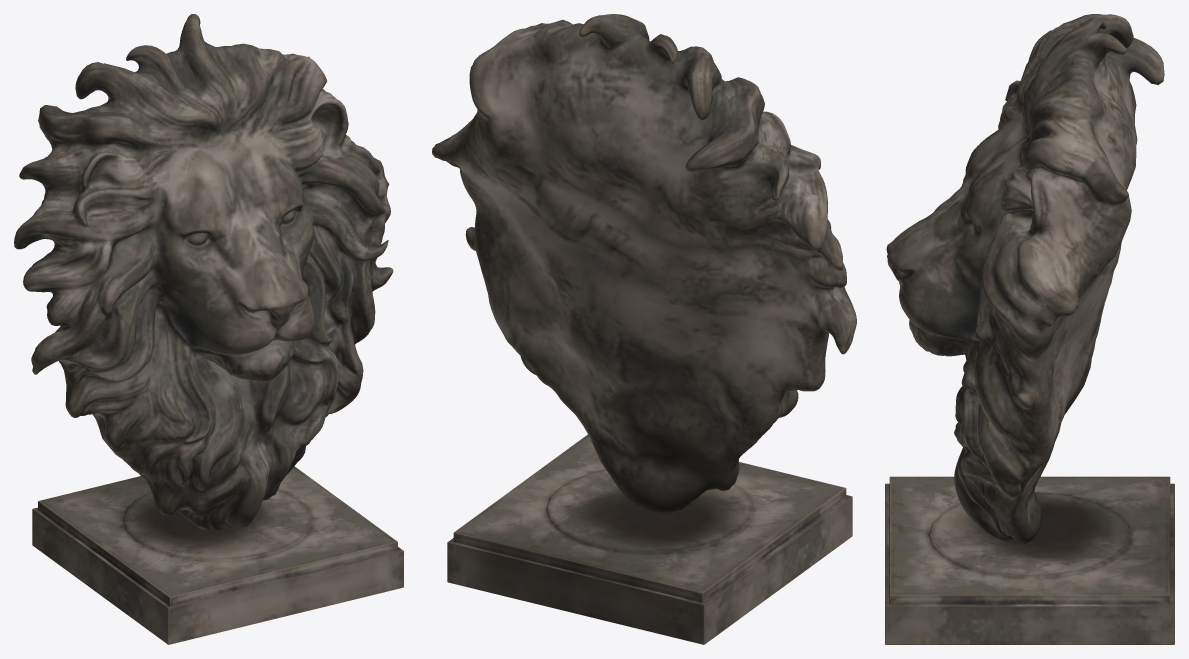
The model's file is lion_head.glb.
The picture shows the model from 3 angles, left to right: view 1: azimuth 30°, elevation 25°; view 2: azimuth 150°, elevation 25°; view 3: azimuth 270°, elevation 25°; orthographic projection. The views are drawn at different scales.
Parts seen in each view (by area): view 1: lion_head; view 2: lion_head; view 3: lion_head.
Part boxes in pixels (box(x1,y1,x2,y2)): lion_head: box(14, 14, 403, 644); lion_head: box(432, 14, 856, 644); lion_head: box(885, 14, 1174, 644).
Size of the model in its own units: 0.3208 by 0.4364 by 0.2066.
1 material, 1 textured.
